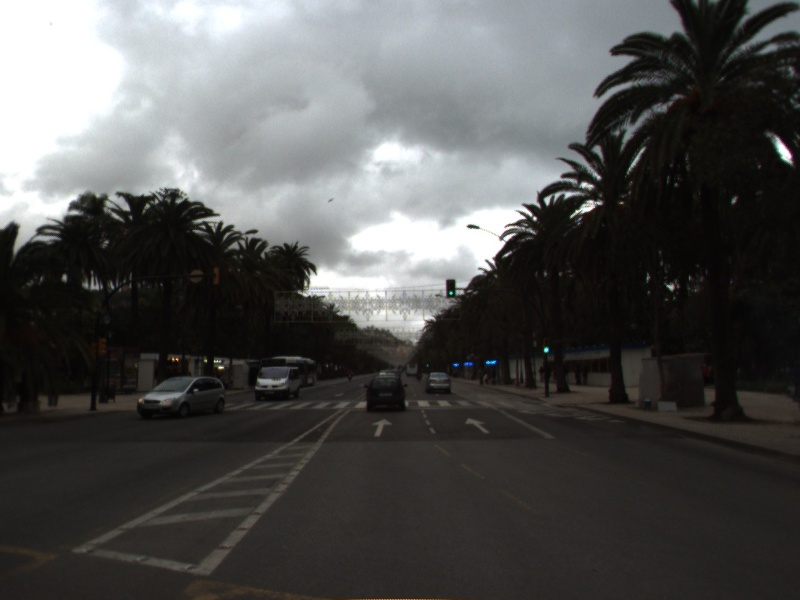STRAIGHT: (463, 416, 493, 436), (369, 417, 395, 438)
